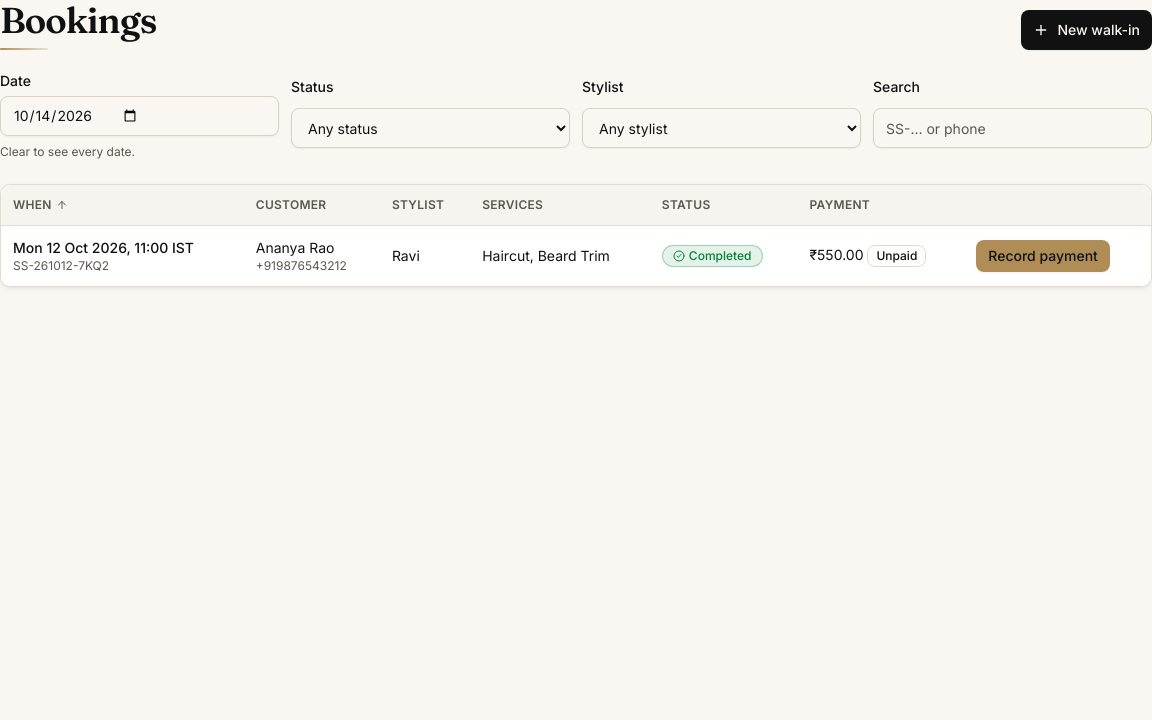
admin bookings table (API-052) › a second payment is refused with the mapped message
Click the button "Record payment": (1043, 256) [976, 240, 1110, 272]
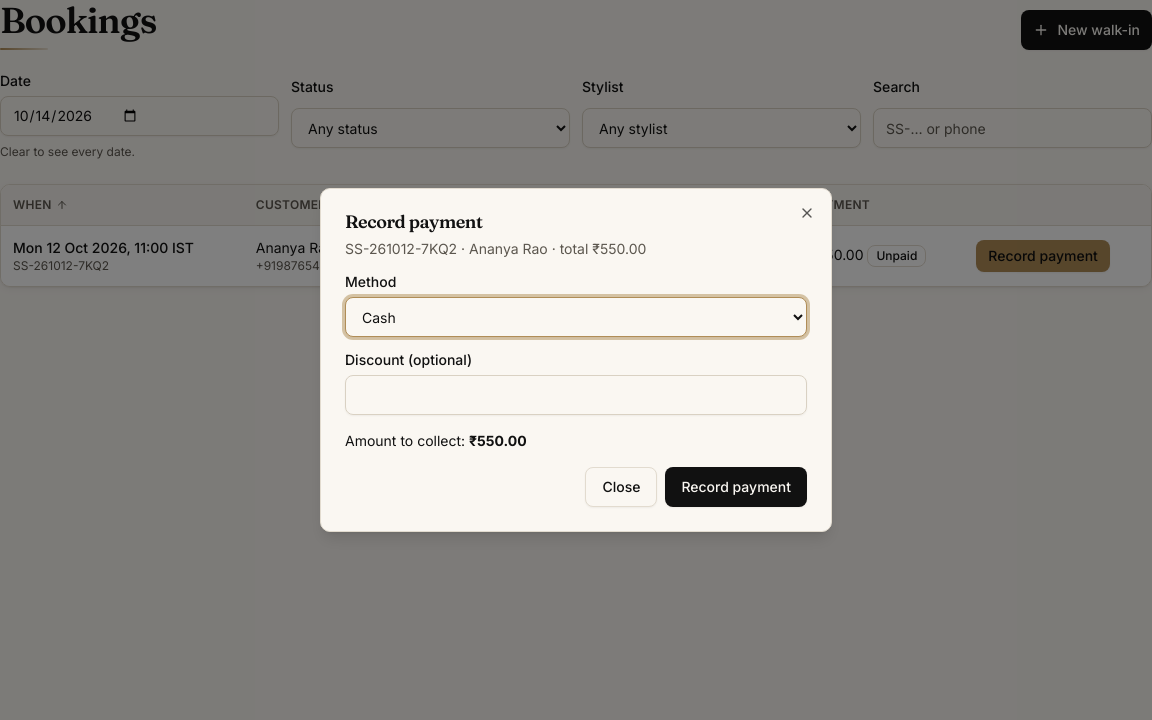
Click the button "Record payment": (736, 487) [665, 467, 807, 507]
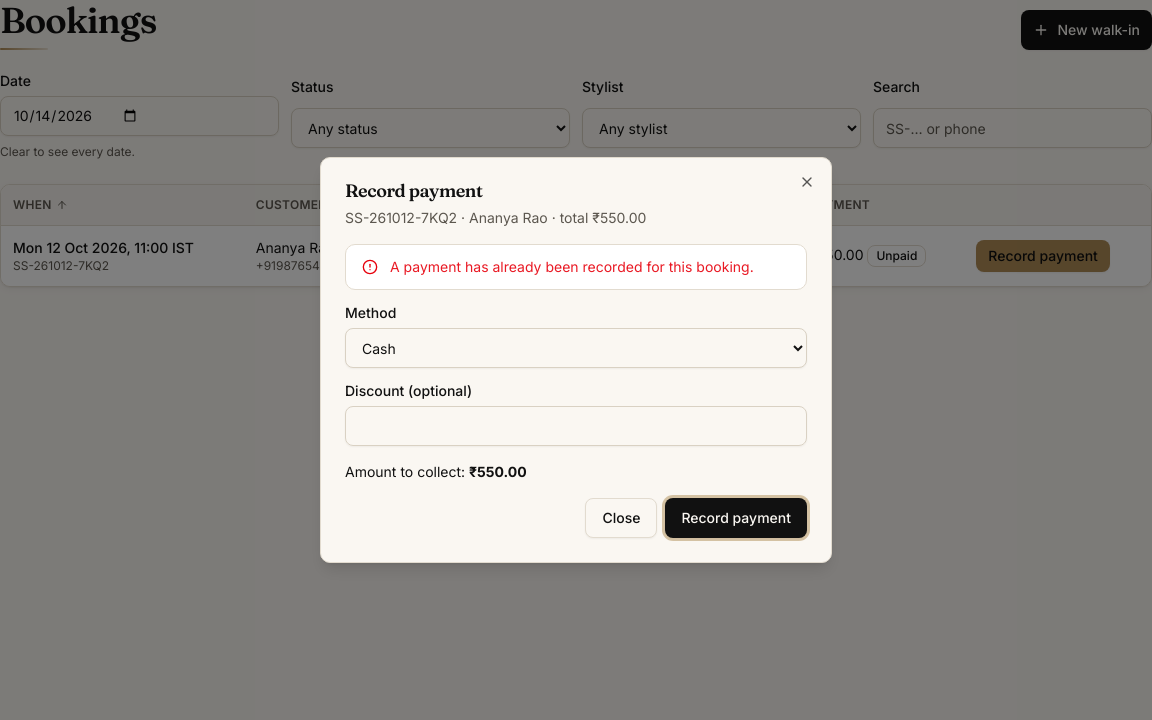
expect the message shows "already been recorded": met, box [390, 258, 754, 275]
